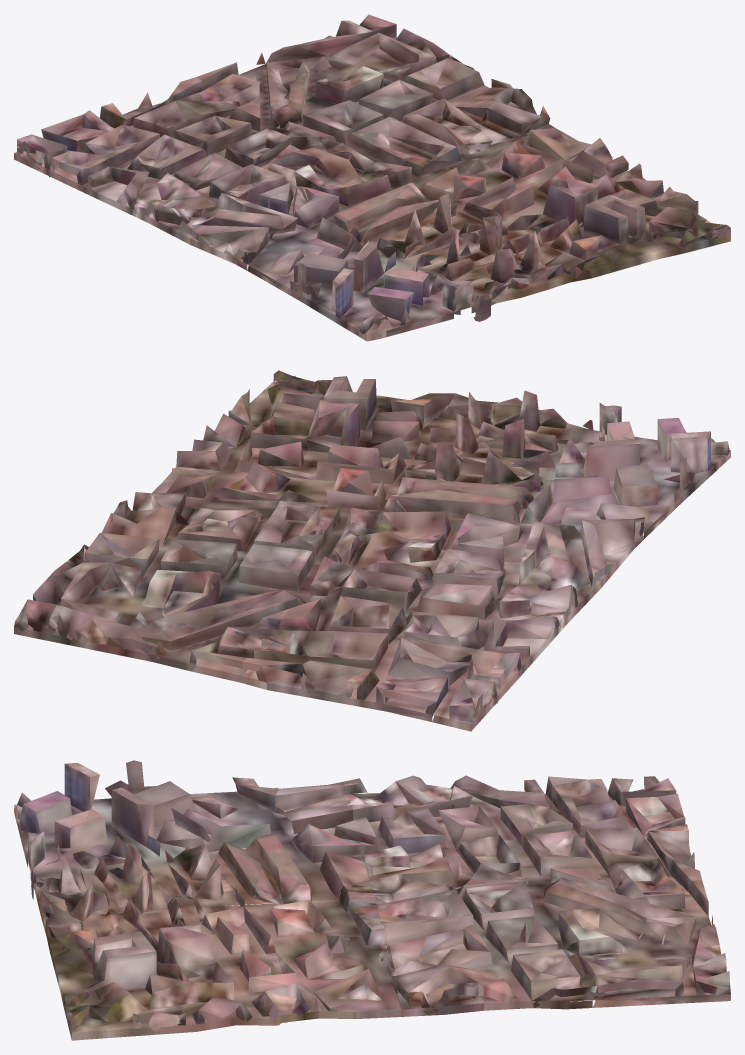
3 views of the same model, one above another, from view 1: azimuth 30°, elevation 25°; view 2: azimuth 150°, elevation 25°; view 3: azimuth 270°, elevation 25° (orthographic). The views are drawn at different scales.
Visible parts, largest first — view 1: Mesh_0; view 2: Mesh_0; view 3: Mesh_0.
Part boxes in pixels (box(x1,y1,x2,y2)): Mesh_0: box(14, 14, 730, 341); Mesh_0: box(14, 370, 730, 731); Mesh_0: box(14, 760, 730, 1040).
Bounding box in the file's own units: 533 × 69.15 × 659.
2 materials, 2 textured.
